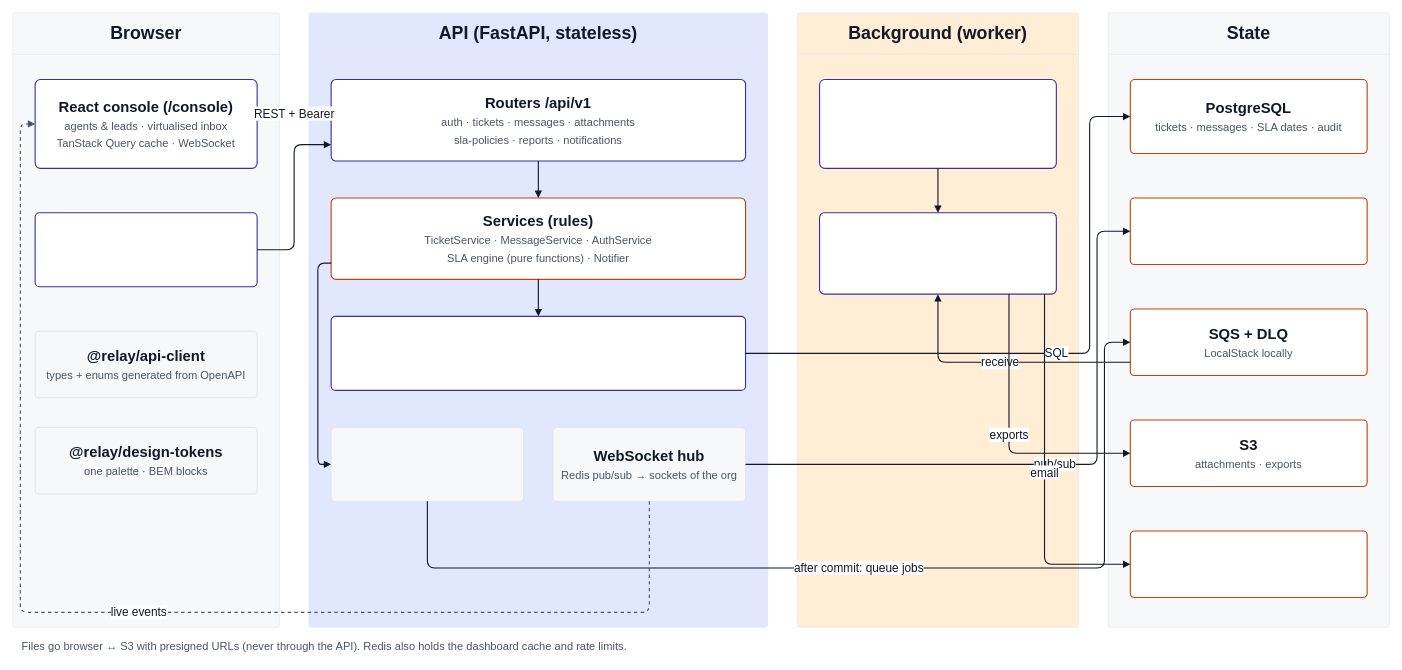
This 1402x670 diagram has some shape labels left out. Each missing label, with the centre of its shape:
"Email SES · Mailpit locally" goes at (x=1248, y=564).
"Jobs auto_assign · sla_scan · auto_close export_csv · send_email" goes at (x=938, y=253).
"React portal (/portal/:org) customers · own tickets only" goes at (x=145, y=249).
"Redis cache · rate limit · pub/sub" goes at (x=1248, y=231).
"Repositories (TenantRepository) every query filtered by org_id · keyset pages" goes at (x=538, y=353).
"Unit of Work commit, then publish events and queue jobs" goes at (x=427, y=464).
"Worker claim idempotency key → handler → commit → delete message" goes at (x=938, y=124).
